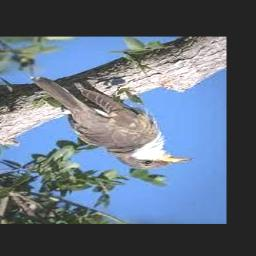Cuckoo: (29, 77, 191, 169)
